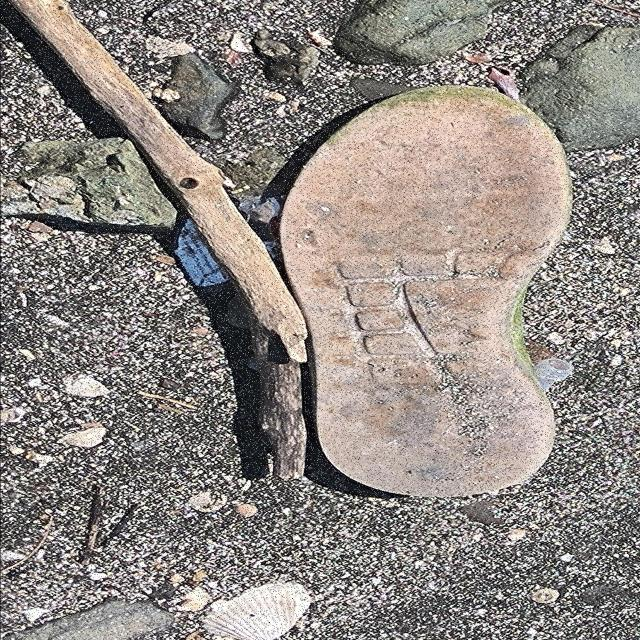rubber_waste: (274, 85, 576, 500)
